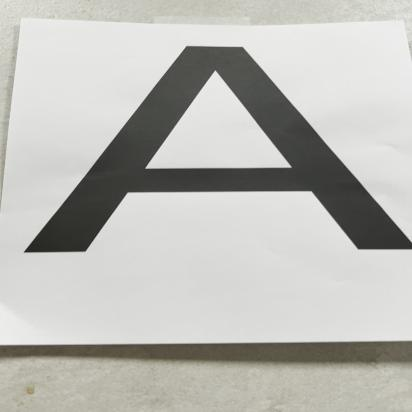seat: (9, 41, 412, 295), (46, 32, 412, 259)
